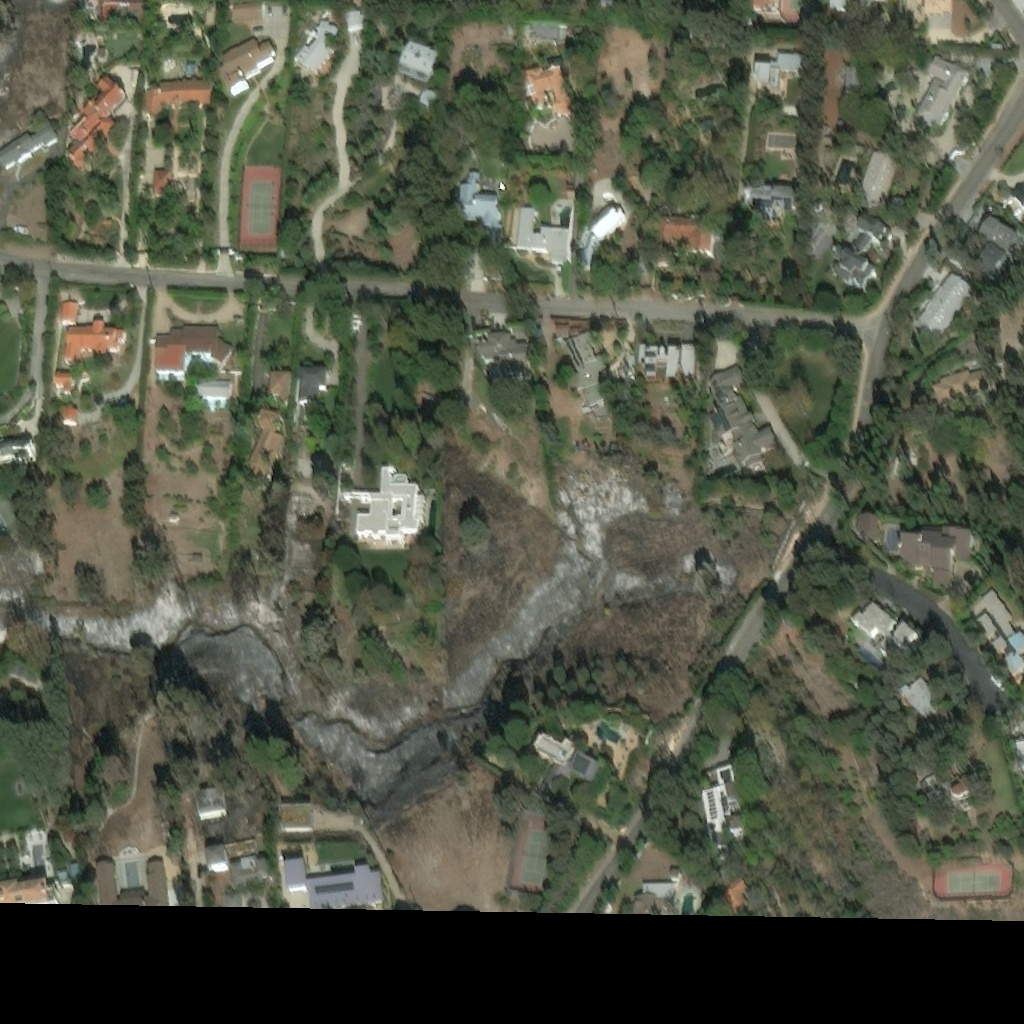0 no-damage: (705, 365, 777, 474), (344, 468, 427, 543), (62, 75, 126, 169), (532, 735, 605, 809), (828, 214, 899, 290), (967, 589, 1023, 683), (561, 328, 620, 411), (849, 600, 921, 665), (898, 525, 973, 585), (281, 858, 384, 901), (897, 673, 962, 740), (912, 53, 969, 128), (700, 766, 745, 858), (914, 271, 973, 341), (916, 767, 989, 822), (153, 324, 235, 371), (455, 172, 501, 255), (218, 39, 277, 95), (577, 205, 627, 271), (474, 327, 533, 381), (516, 206, 570, 261), (63, 321, 125, 365), (0, 121, 59, 167), (524, 64, 578, 114), (857, 150, 899, 211), (930, 367, 992, 407), (636, 342, 699, 381), (293, 18, 337, 73), (144, 80, 213, 115), (657, 213, 714, 253), (751, 50, 809, 89), (396, 39, 440, 84), (976, 217, 1023, 258), (118, 860, 167, 897), (245, 429, 283, 476), (154, 352, 223, 377), (742, 184, 800, 212), (228, 853, 271, 886), (973, 246, 1010, 283), (97, 0, 146, 24), (0, 445, 36, 477), (297, 366, 328, 403), (6, 653, 44, 683), (193, 785, 227, 817), (716, 879, 752, 908), (158, 0, 195, 25), (634, 884, 675, 906), (94, 859, 116, 896), (196, 377, 230, 400), (255, 408, 284, 434), (0, 880, 48, 895), (855, 512, 879, 539), (233, 1, 263, 21), (204, 845, 228, 868), (268, 371, 290, 396), (529, 21, 559, 38), (55, 372, 78, 394), (153, 171, 173, 196), (844, 64, 862, 91), (417, 86, 439, 107), (60, 299, 77, 320), (78, 0, 97, 18), (53, 881, 73, 895), (195, 399, 230, 406), (68, 861, 81, 879), (62, 409, 78, 422), (554, 321, 568, 332), (57, 868, 68, 878), (109, 374, 119, 383), (569, 325, 578, 331), (60, 320, 76, 323), (62, 422, 78, 425)
4 un-classified: (286, 494, 314, 515), (922, 0, 952, 12), (293, 538, 319, 549), (290, 558, 317, 568), (574, 25, 588, 44), (1010, 0, 1023, 16), (751, 0, 771, 10), (600, 0, 617, 9), (828, 0, 845, 7), (861, 0, 875, 6)
